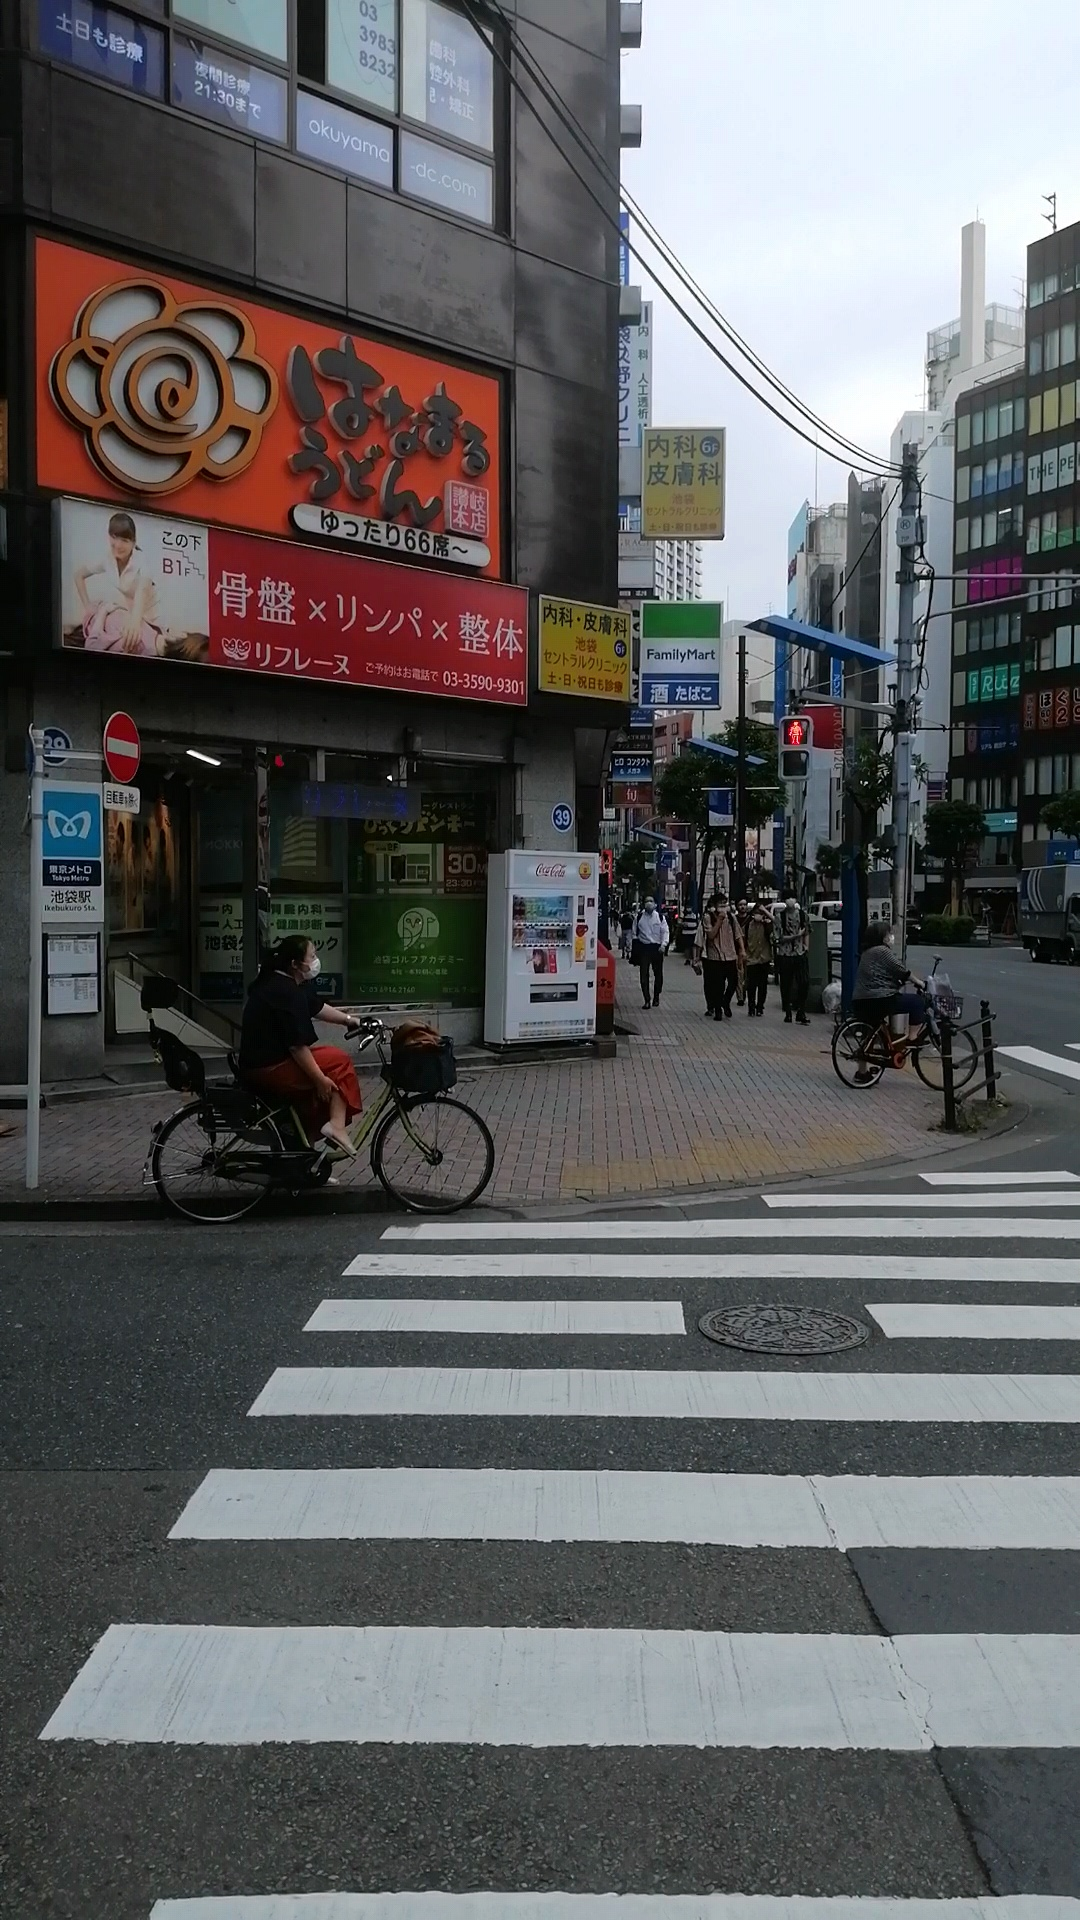red: (777, 715, 814, 781)
